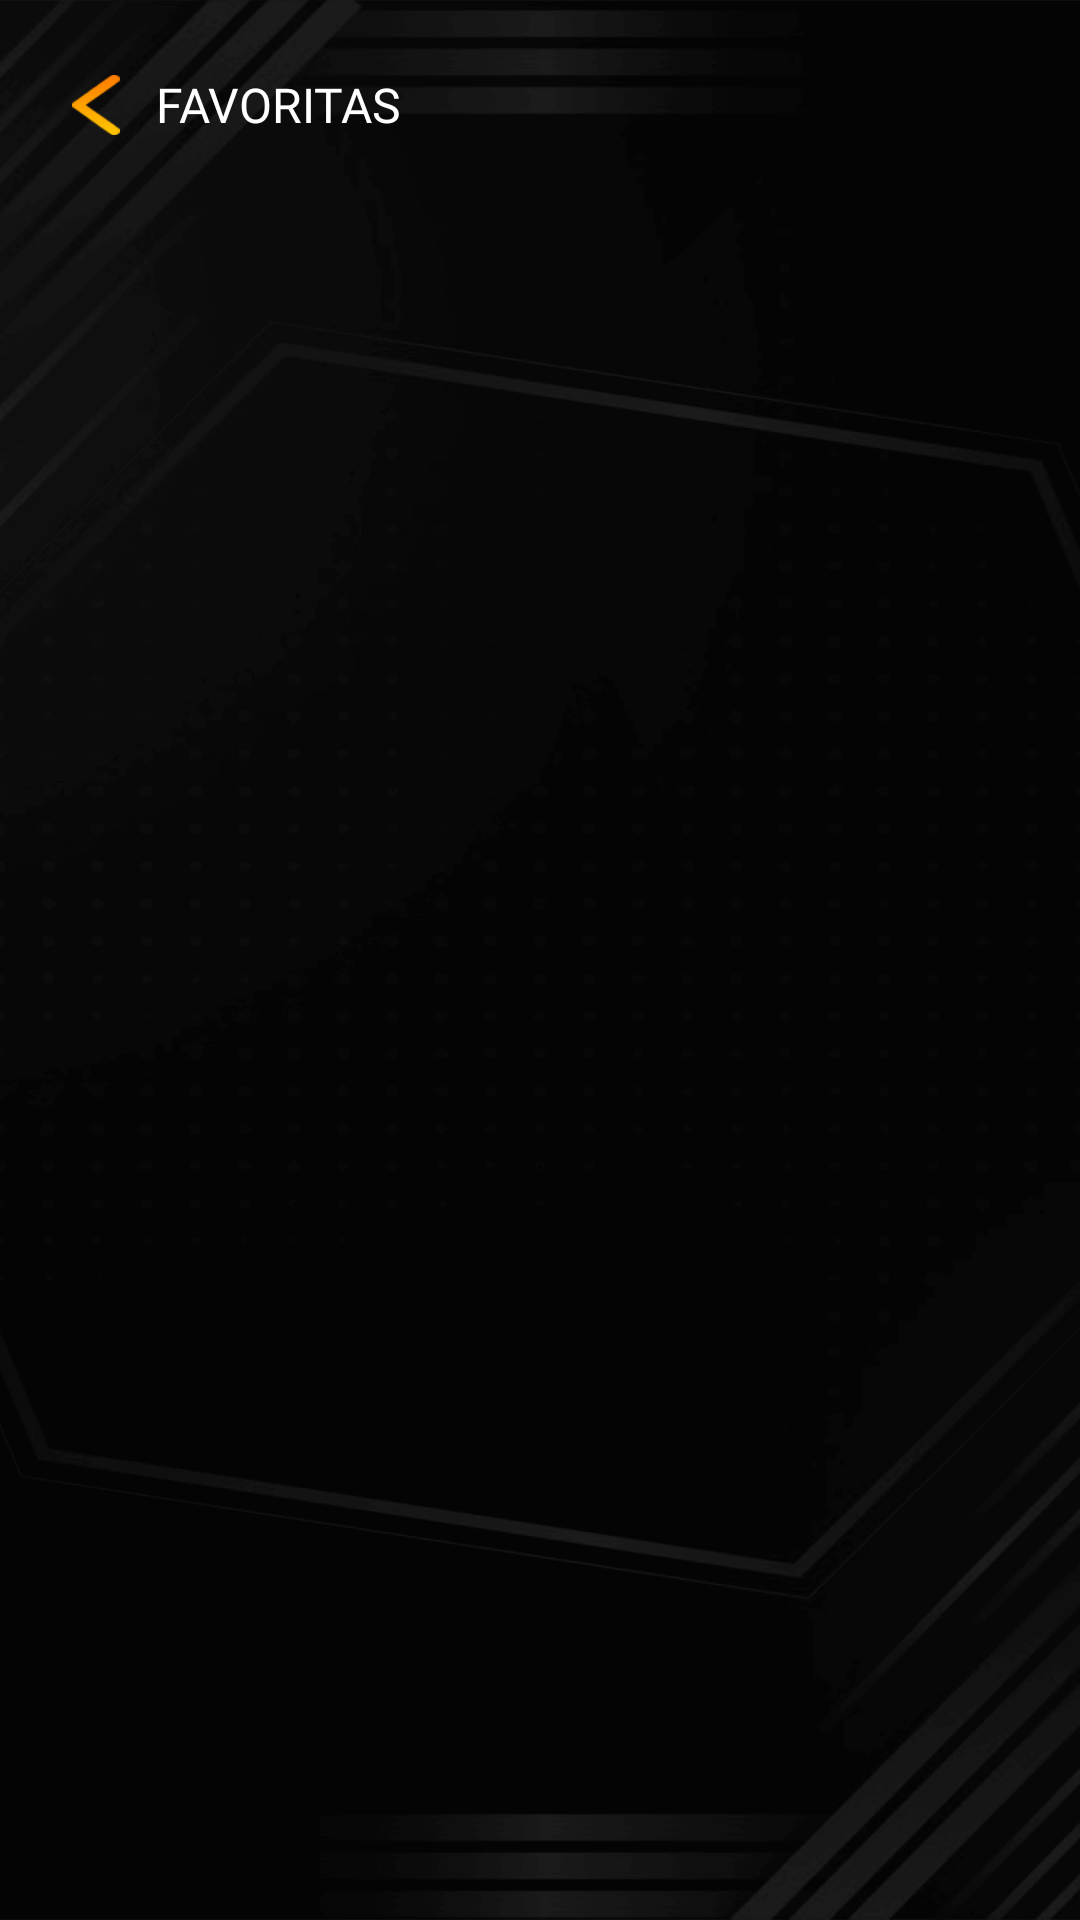

Screen size 1080w x 1920h. Icon name, then its box in pixels as box(x1, y1, x2, y2):
back arrow kaverdarm: box(72, 75, 120, 135)
